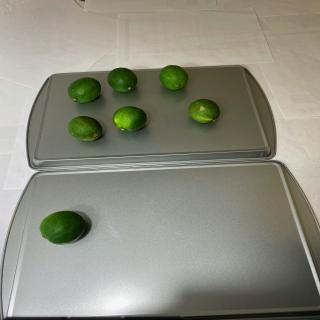Apple: (68, 115, 102, 142)
Lemon: (39, 210, 86, 245), (113, 106, 147, 132), (67, 77, 101, 103), (188, 98, 220, 124), (159, 65, 189, 90), (107, 68, 138, 92)
